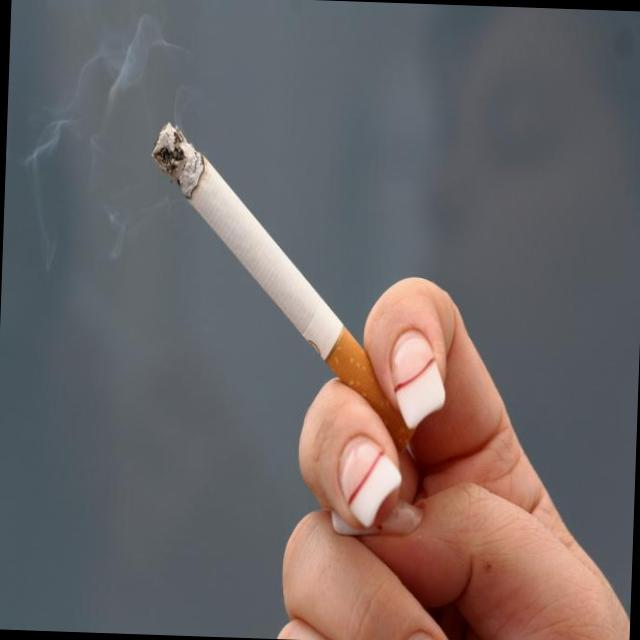smoke: (132, 118, 438, 463)
